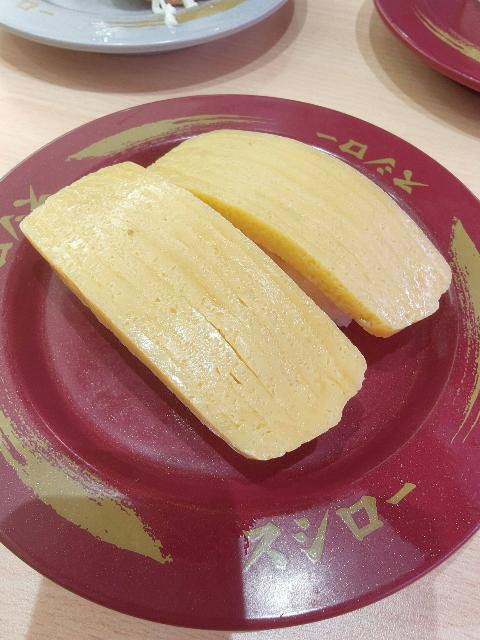janred: (13, 106, 480, 572), (403, 0, 480, 85)
janwhite: (0, 0, 280, 58)
